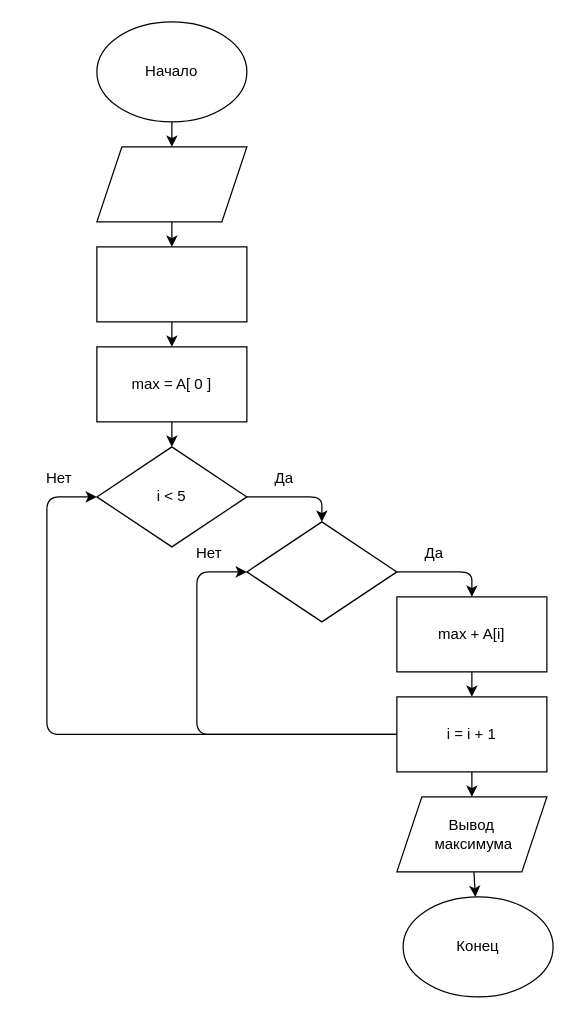
Some shapes in this 575 by 1019 pixel diagram are drawn without their labels. The centre of each missing label's shape, as x and y in pixels:
A[ i ] > max: the point at 321,571
i = 1: the point at 171,284
Дан массив: { 5; 4; 5; 3; 4 }: the point at 171,184
